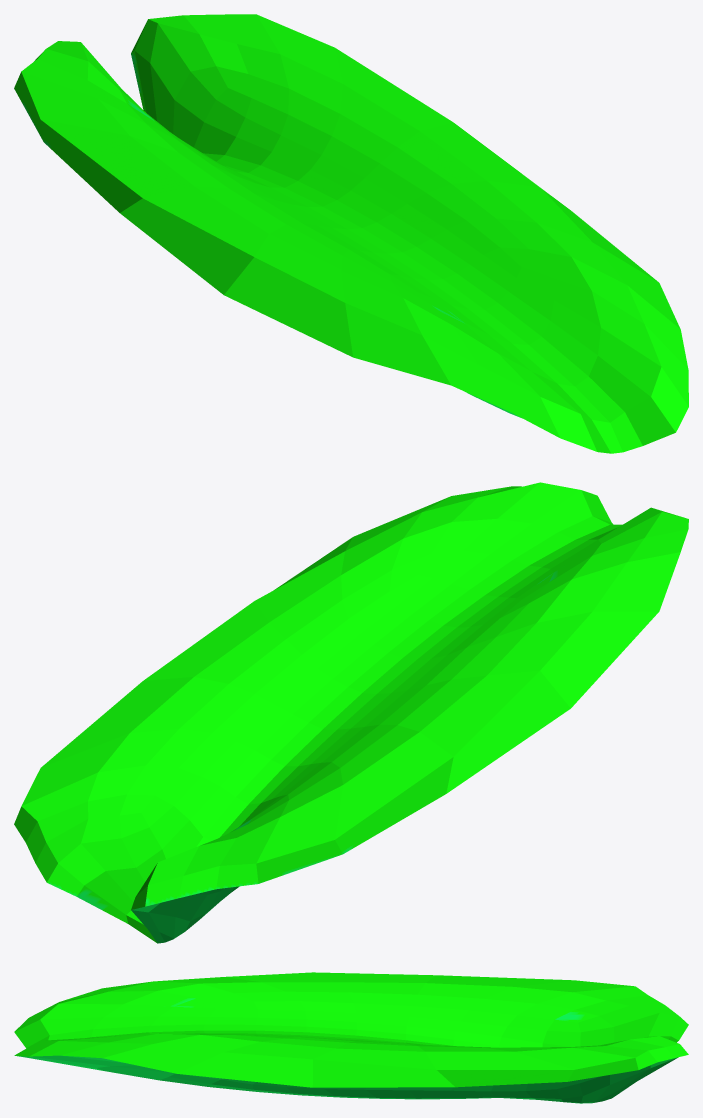
The model's file is simpleLeaf2.fbx.
The picture shows the model from 3 angles, top to bottom: view 1: azimuth 30°, elevation 25°; view 2: azimuth 150°, elevation 25°; view 3: azimuth 270°, elevation 25°; orthographic projection. The views are drawn at different scales.
Parts seen in each view (by area): view 1: Cube; view 2: Cube; view 3: Cube.
Boxes of the visible parts, left/top/right/bottom form: Cube: left=14, top=14, right=688, bottom=453; Cube: left=14, top=482, right=688, bottom=943; Cube: left=14, top=972, right=688, bottom=1103.
Bounding box in the file's own units: 3.25 × 8.77 × 1.35.
Materials: 1 (1 with a texture image).
